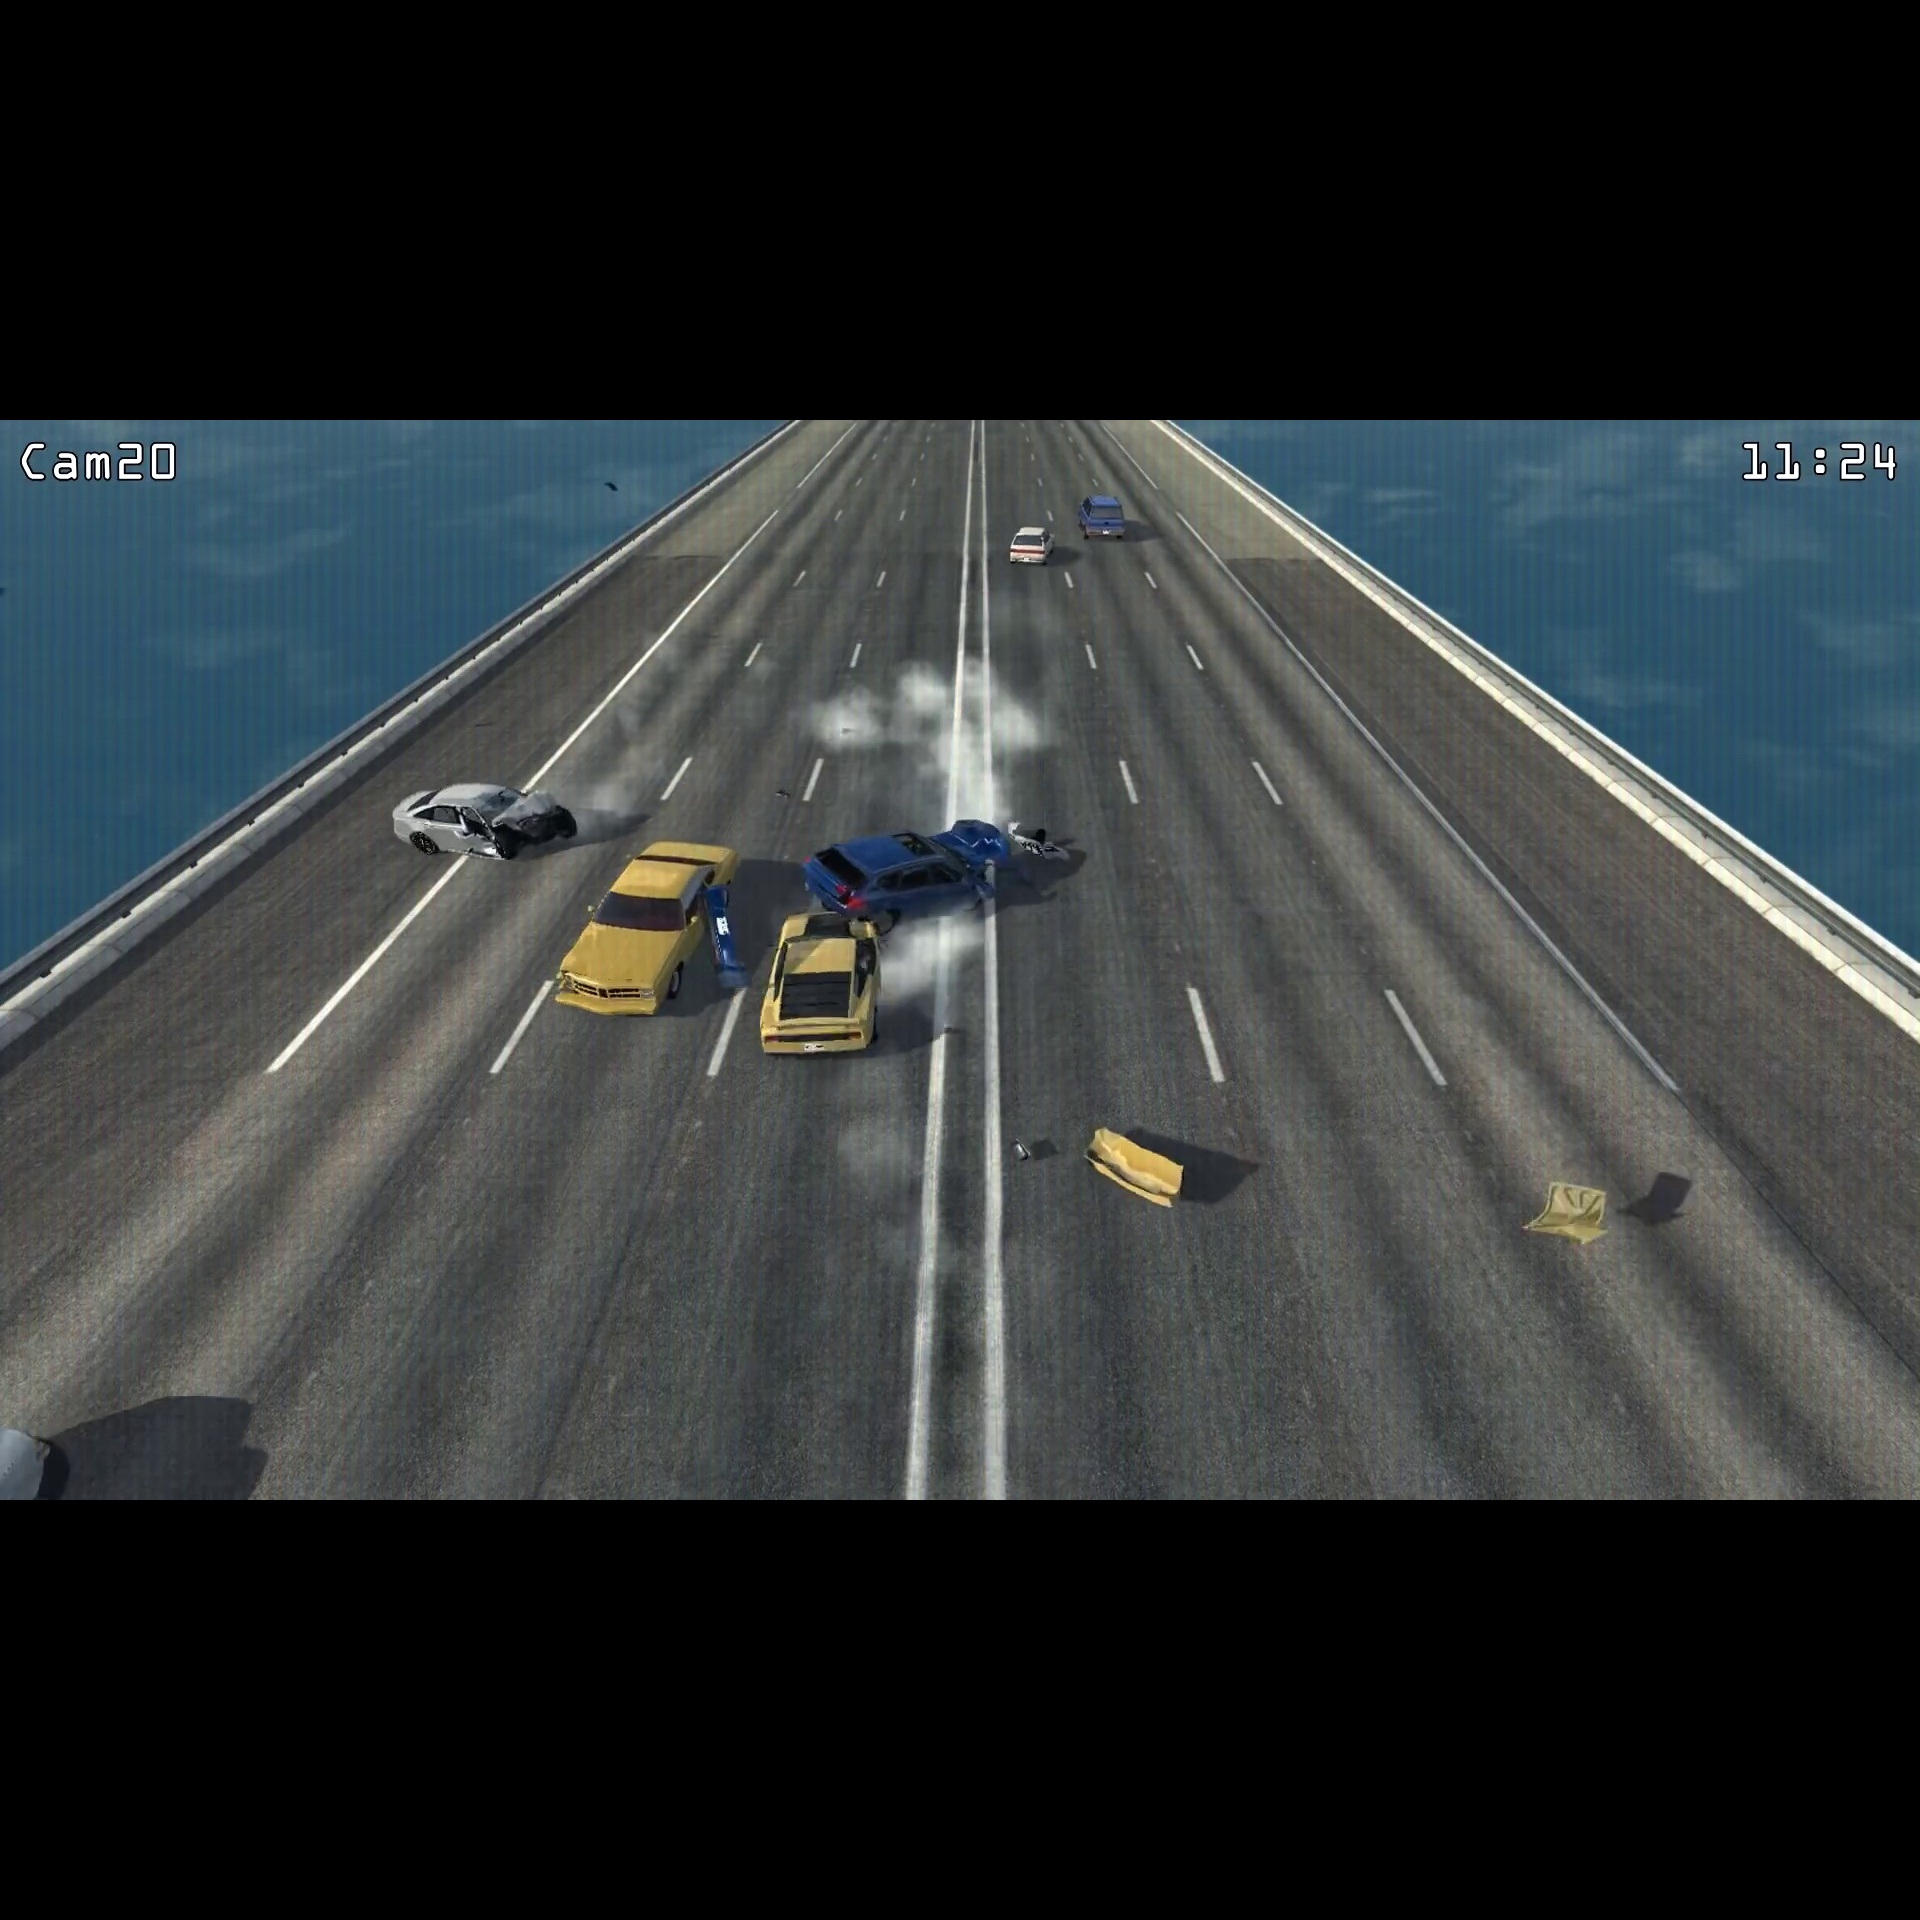vehicle: (550, 835, 751, 1030), (795, 816, 1016, 916), (751, 904, 884, 1065), (387, 781, 582, 870), (1069, 489, 1129, 547), (1000, 519, 1058, 570)
